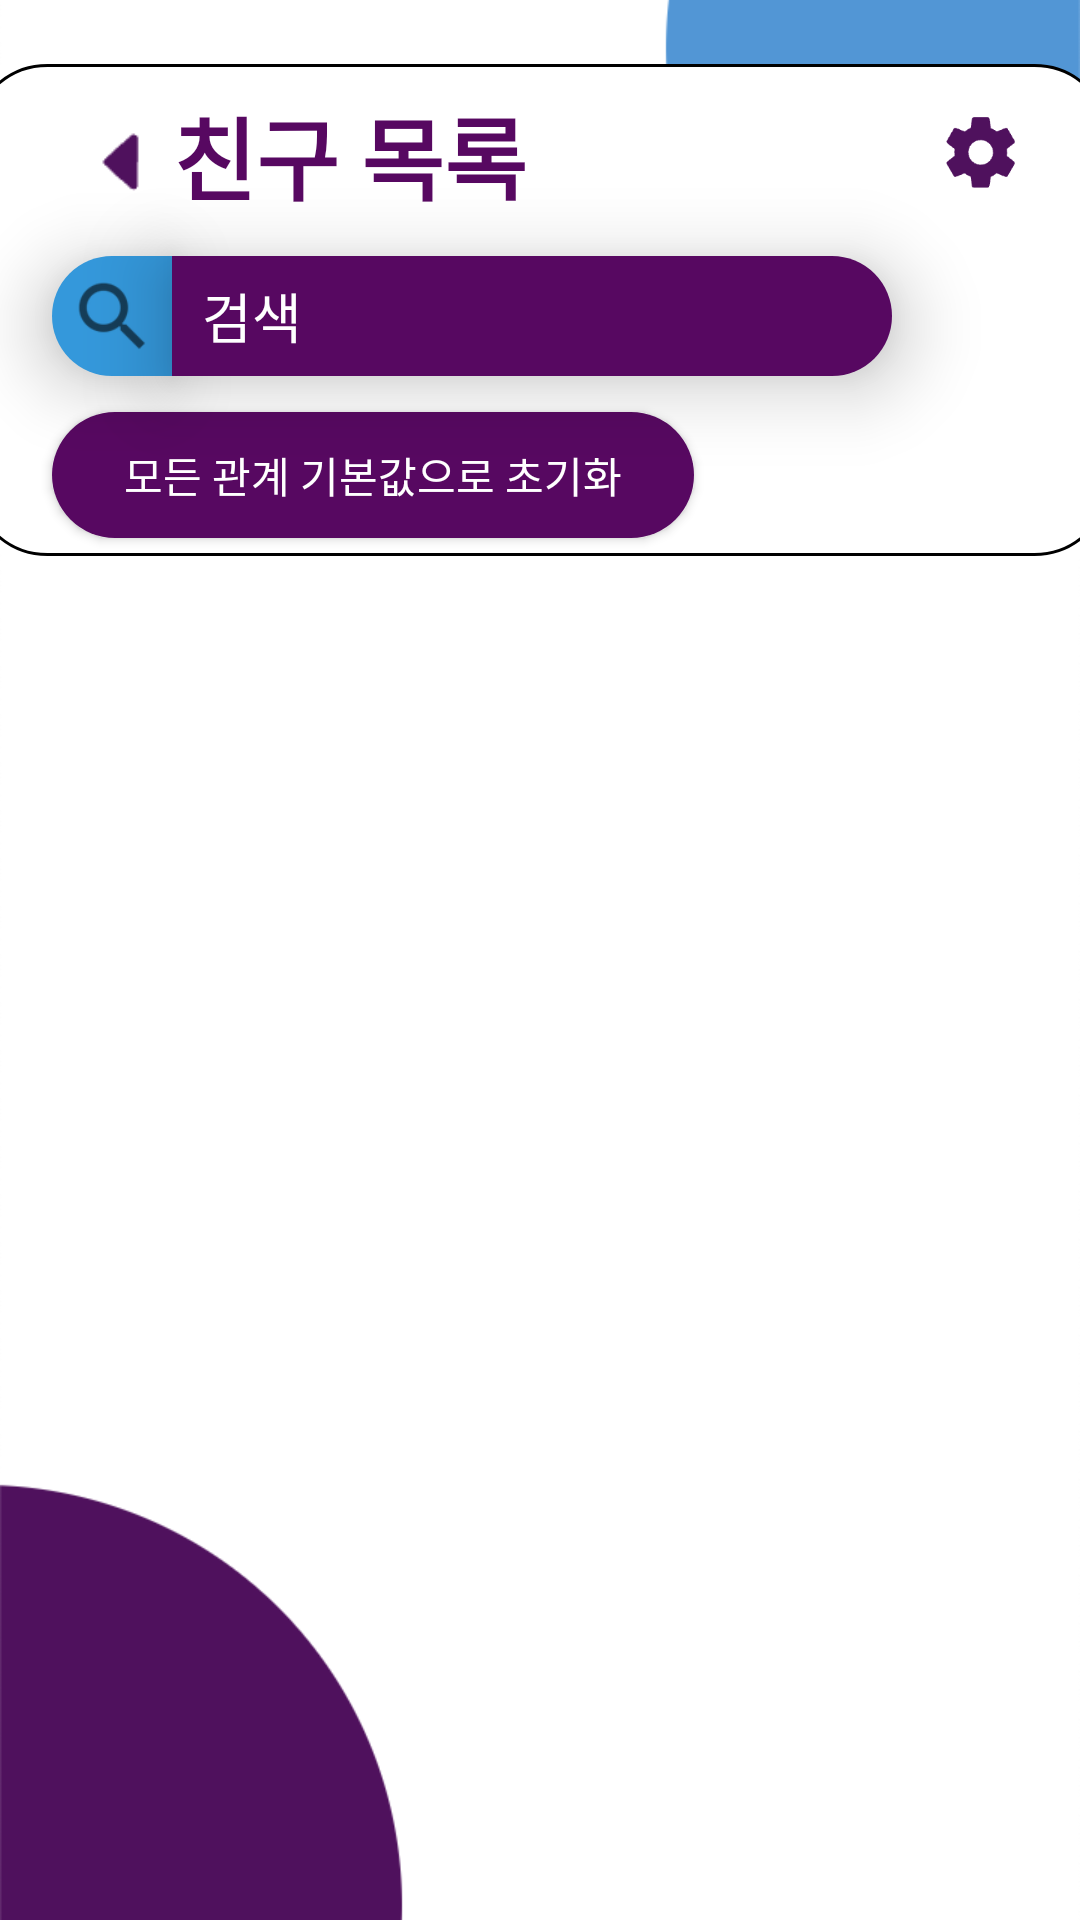

Icon bounding boxes for this 1080w x 1920h phone screenshot, format (x1, y1, x2, y2):
previous: (102, 133, 139, 191)
setting: (946, 117, 1015, 188)
